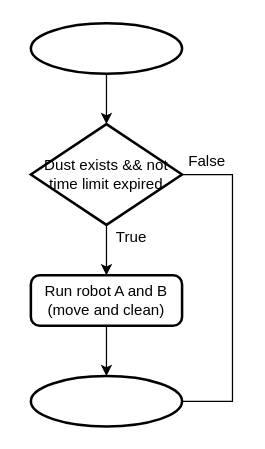
This 265x449 diagram has some shape labels left out. The shapes that lost their labels are listed below. From the top down, each one's centre as x and y in pixels, then its label:
the point at 106,47: Start
the point at 106,400: End
